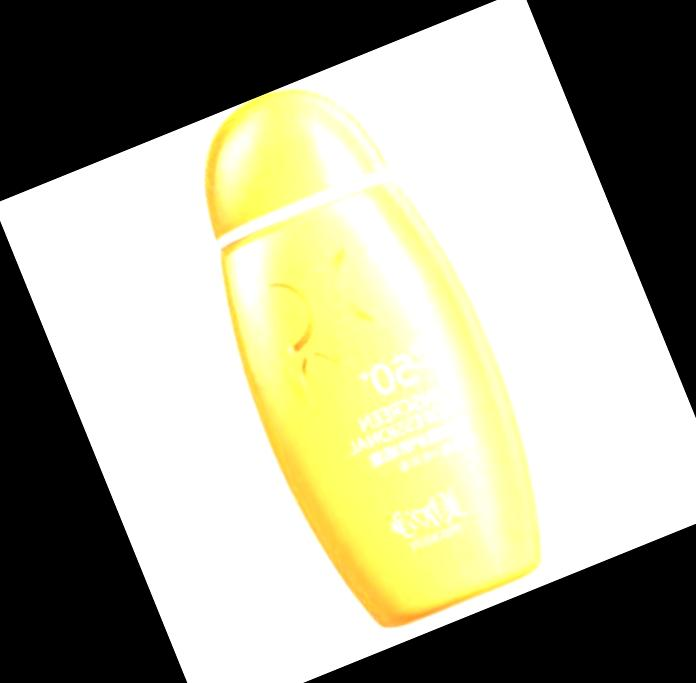cosmetic: (148, 49, 580, 648)
